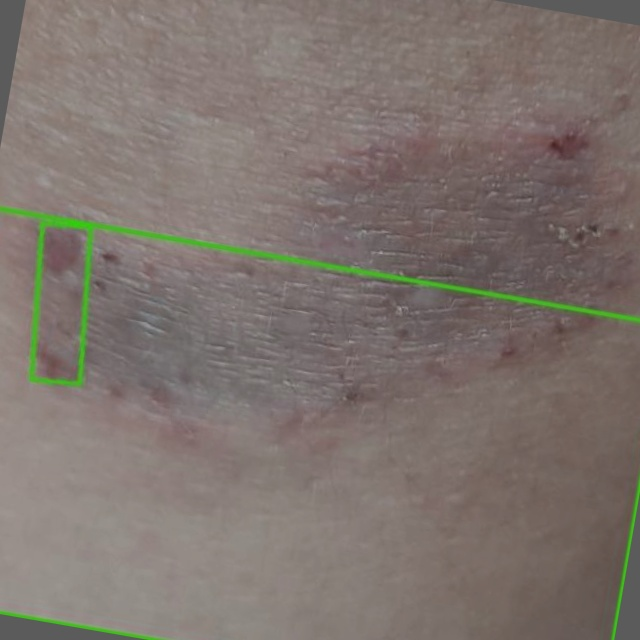Tinea Corporis: (0, 208, 639, 639), (31, 224, 91, 384)
